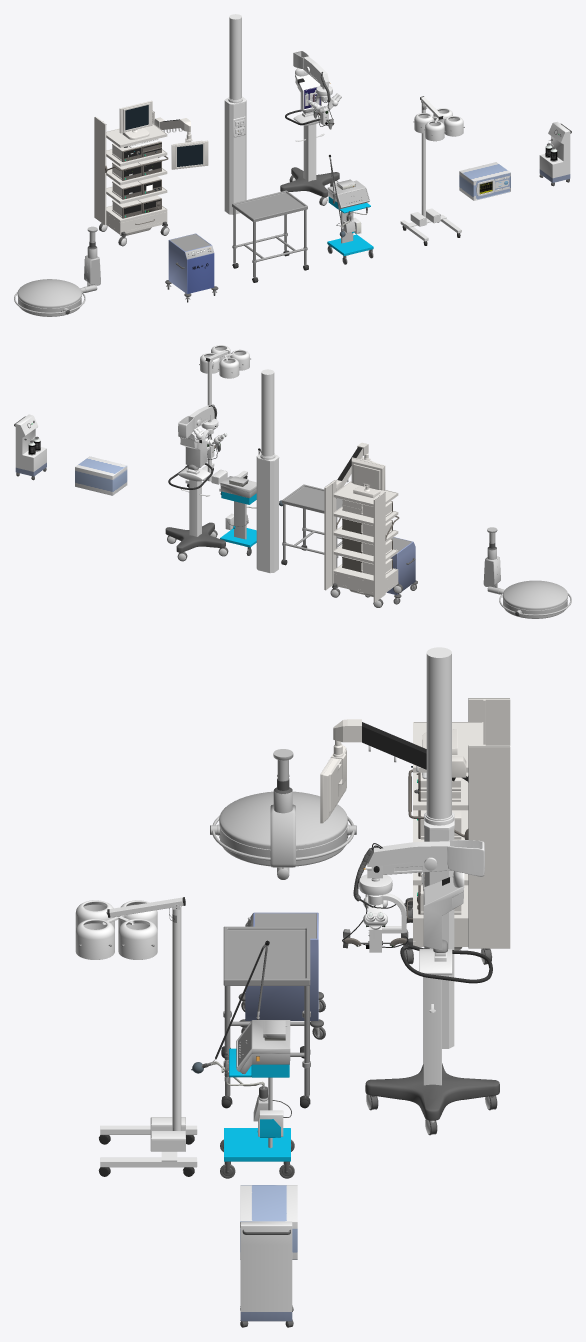
The picture shows the model from 3 angles, top to bottom: view 1: azimuth 30°, elevation 25°; view 2: azimuth 150°, elevation 25°; view 3: azimuth 270°, elevation 25°; orthographic projection. The views are drawn at different scales.
Visible parts, largest first — view 1: Obj3d66-543298-13-231, Obj3d66-543298-6-902, Obj3d66-543298-5-562, Obj3d66-543298-16-13, Obj3d66-543298-7-912, Obj3d66-543298-4-702, Obj3d66-543298-3-138, Obj3d66-543298-1-713, Obj3d66-543298-2-17, Obj3d66-543298-15-416, Obj3d66-543298-17-296, Obj3d66-543298-11-502; view 2: Obj3d66-543298-13-231, Obj3d66-543298-6-902, Obj3d66-543298-5-562, Obj3d66-543298-16-13, Obj3d66-543298-2-17, Obj3d66-543298-7-912, Obj3d66-543298-4-702, Obj3d66-543298-15-416, Obj3d66-543298-17-296, Obj3d66-543298-1-713, Obj3d66-543298-3-138; view 3: Obj3d66-543298-6-902, Obj3d66-543298-13-231, Obj3d66-543298-4-702, Obj3d66-543298-16-13, Obj3d66-543298-2-17, Obj3d66-543298-5-562, Obj3d66-543298-1-713, Obj3d66-543298-17-296, Obj3d66-543298-3-138, Obj3d66-543298-15-416, Obj3d66-543298-11-502, Obj3d66-543298-8-863 (+1 smaller).
Boxes of the visible parts, x1,y1,x2,y2 form: Obj3d66-543298-13-231: (94,100,169,246); Obj3d66-543298-6-902: (280,50,341,205); Obj3d66-543298-5-562: (224,14,246,214); Obj3d66-543298-16-13: (14,226,100,316); Obj3d66-543298-7-912: (112,140,161,218); Obj3d66-543298-4-702: (400,96,464,245); Obj3d66-543298-3-138: (165,233,218,302); Obj3d66-543298-1-713: (232,190,308,282); Obj3d66-543298-2-17: (327,155,373,264); Obj3d66-543298-15-416: (459,162,510,200); Obj3d66-543298-17-296: (539,121,571,186); Obj3d66-543298-11-502: (171,131,208,169); Obj3d66-543298-13-231: (324,457,402,607); Obj3d66-543298-6-902: (165,404,228,561); Obj3d66-543298-5-562: (256,369,279,573); Obj3d66-543298-16-13: (483,527,571,618); Obj3d66-543298-2-17: (220,448,282,555); Obj3d66-543298-7-912: (342,499,392,575); Obj3d66-543298-4-702: (185,345,250,494); Obj3d66-543298-15-416: (75,456,127,495); Obj3d66-543298-17-296: (14,414,46,480); Obj3d66-543298-1-713: (281,484,342,567); Obj3d66-543298-3-138: (365,537,417,604); Obj3d66-543298-6-902: (342,840,499,1135); Obj3d66-543298-13-231: (404,698,510,964); Obj3d66-543298-4-702: (75,897,197,1176); Obj3d66-543298-16-13: (210,749,356,879); Obj3d66-543298-2-17: (191,940,294,1178); Obj3d66-543298-5-562: (421,647,454,1048); Obj3d66-543298-1-713: (221,926,310,1108); Obj3d66-543298-17-296: (240,1221,293,1327); Obj3d66-543298-3-138: (238,912,325,1039); Obj3d66-543298-15-416: (240,1185,297,1259); Obj3d66-543298-11-502: (320,740,346,823); Obj3d66-543298-8-863: (362,722,455,781).
Size of the model in its own units: 8.73 by 3.48 by 3.02.
109 materials, 8 textured.
